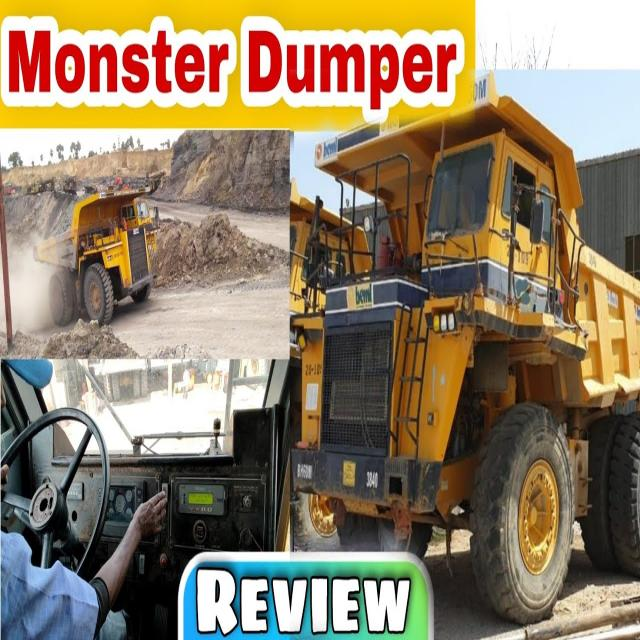dump_truck: (301, 125, 640, 589), (22, 188, 158, 328)
